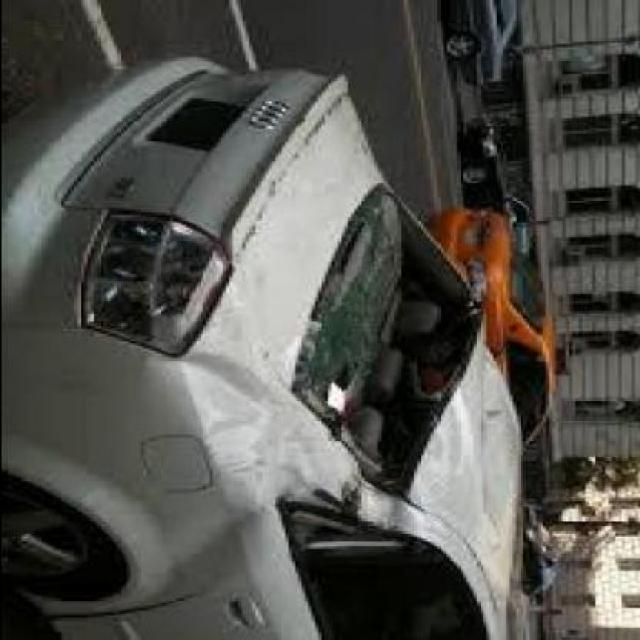damage: (192, 184, 511, 583)
